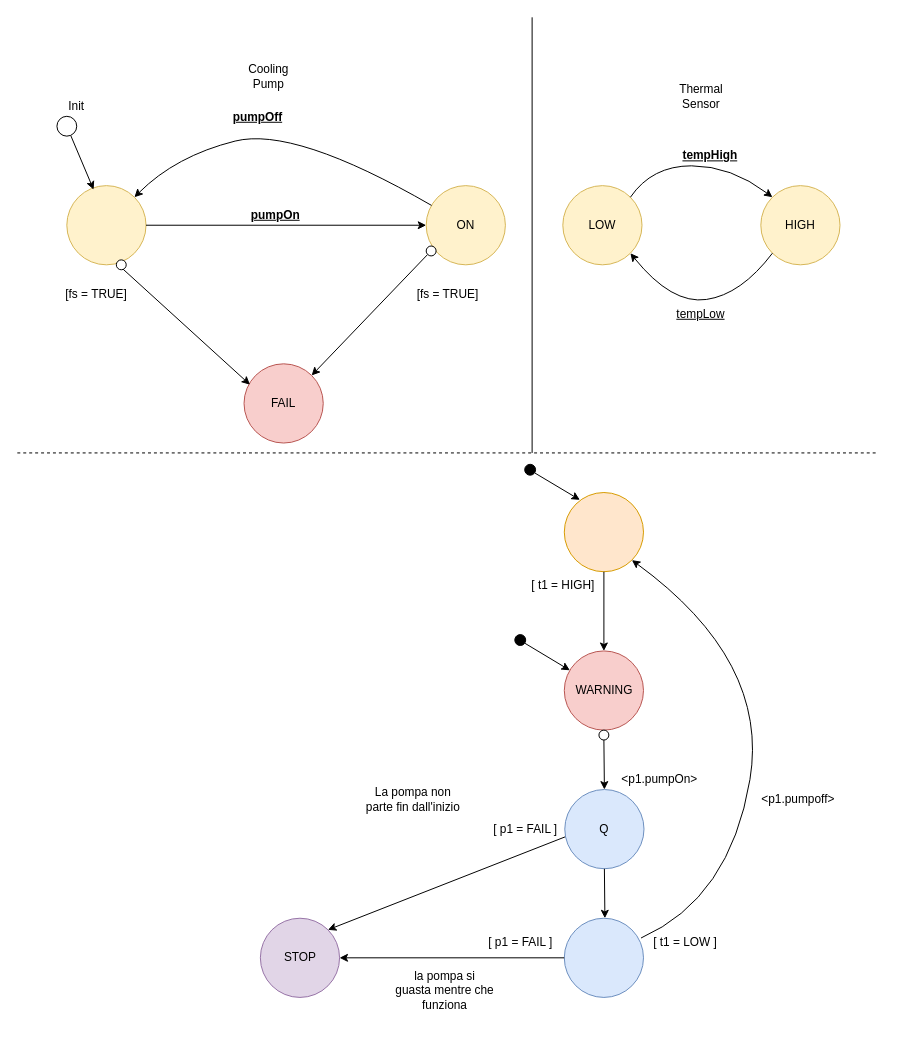
This 897x1043 diagram has some shape labels left out. The box of each missing label's shape, as (x1, y1, x2, y2) in pixels:
COOLING DOWN: (563, 917, 644, 997)
NORMAL: (563, 492, 644, 572)
OFF: (66, 185, 146, 265)
